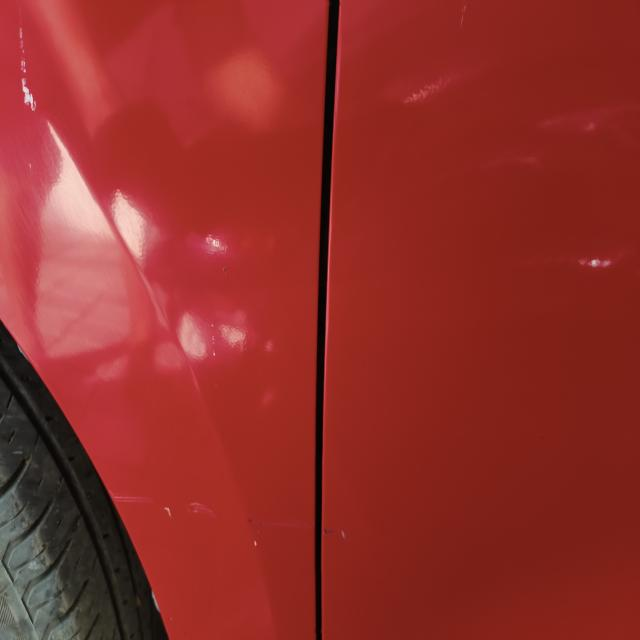scratch: (107, 482, 352, 560), (13, 5, 42, 116)
